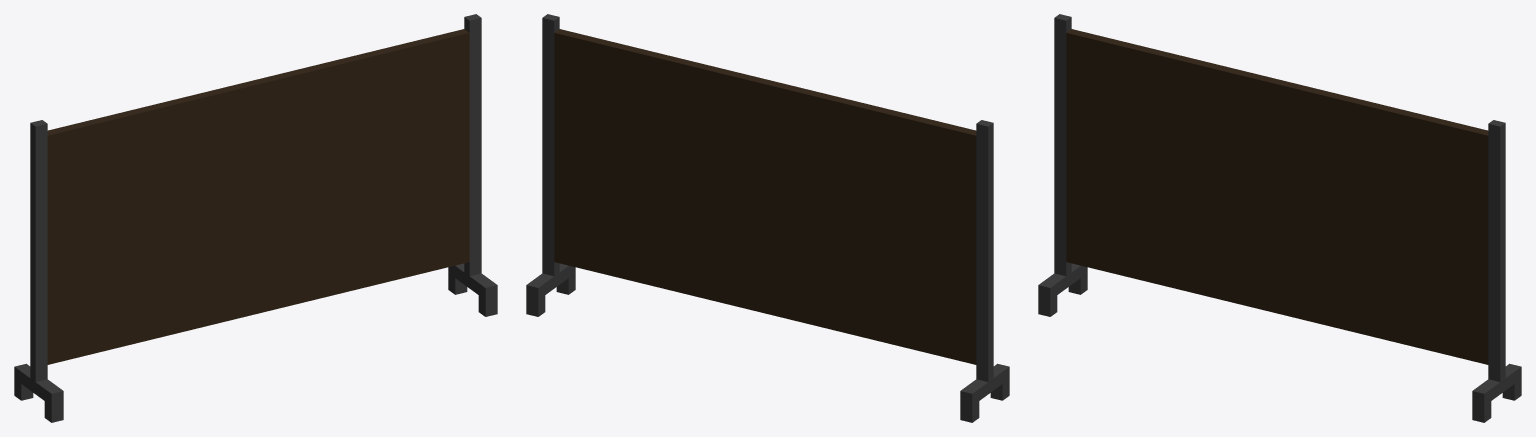
The model's file is Barrier.gltf.
3 renders of one model, left to right at view 1: azimuth 30°, elevation 25°; view 2: azimuth 150°, elevation 25°; view 3: azimuth 330°, elevation 25°, orthographic.
Visible parts, largest first — view 1: Cube; view 2: Cube; view 3: Cube.
Boxes of the visible parts, <box> form: Cube: <box>14,14,497,422</box>; Cube: <box>526,14,1009,422</box>; Cube: <box>1038,14,1521,422</box>.
Size of the model in its own units: 2.76 by 1.68 by 0.3995.
